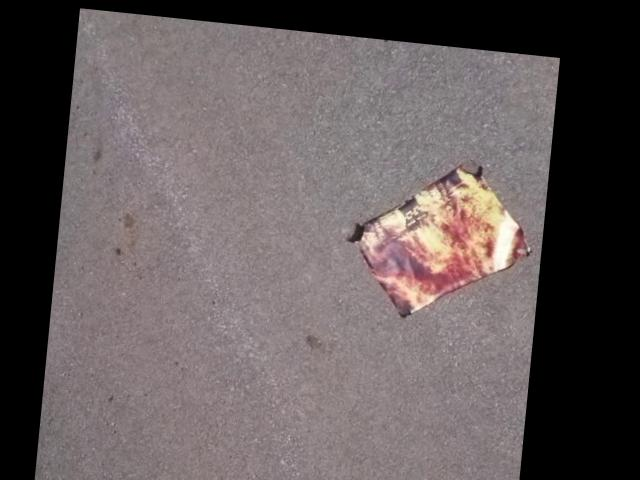fire-poster: (339, 141, 543, 320)
